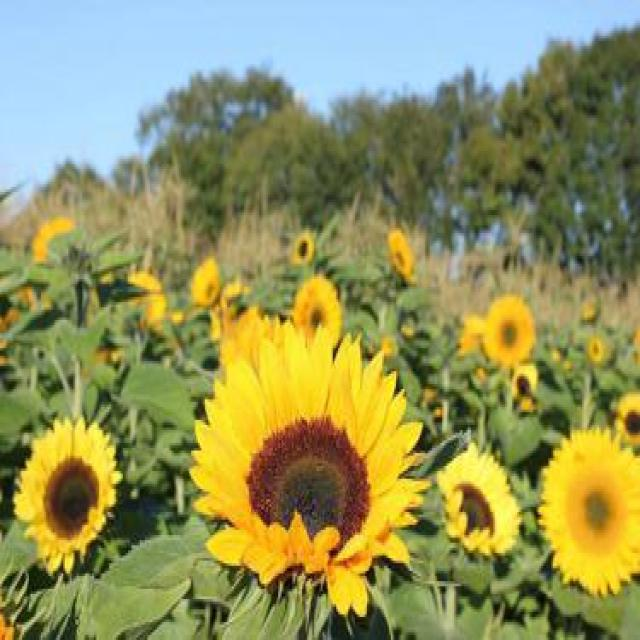sunflower: (186, 322, 430, 618), (537, 427, 640, 601), (10, 420, 126, 568), (433, 442, 521, 564), (480, 292, 538, 368), (288, 274, 345, 348), (383, 222, 416, 286), (612, 379, 640, 448), (194, 261, 222, 310), (291, 234, 320, 273)
